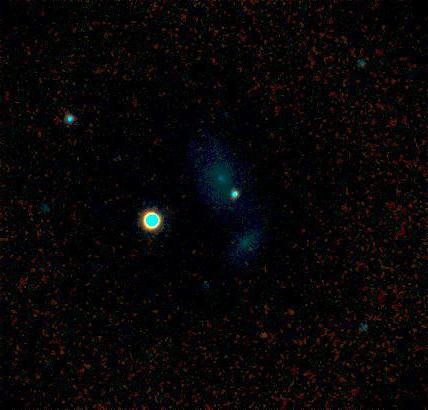star: (247, 319, 277, 349)
